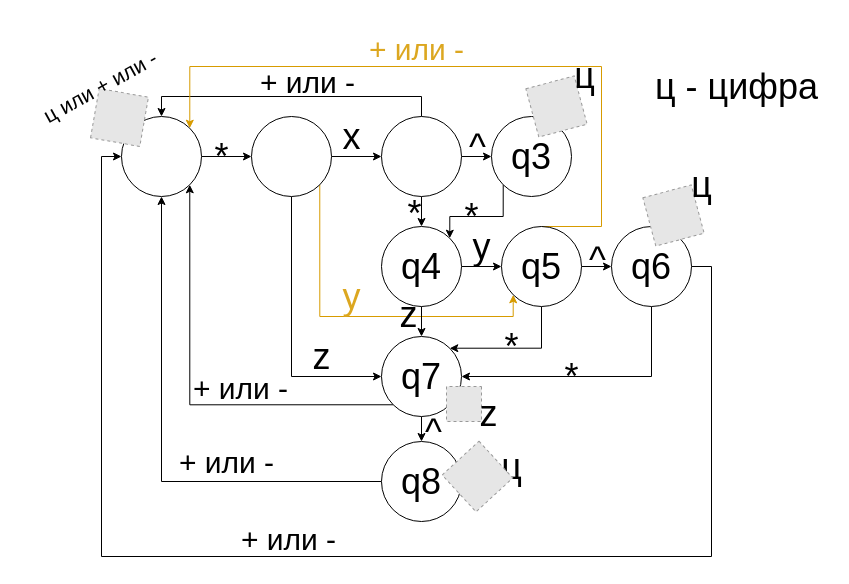
Image size: 849x584. Some labels were removed from this diagram. Grey dashed boxes stand in for pictures. The centre of each missing label's shape, as x and y in pixels:
q0: point (161, 156)
q1: point (291, 156)
q2: point (421, 156)
